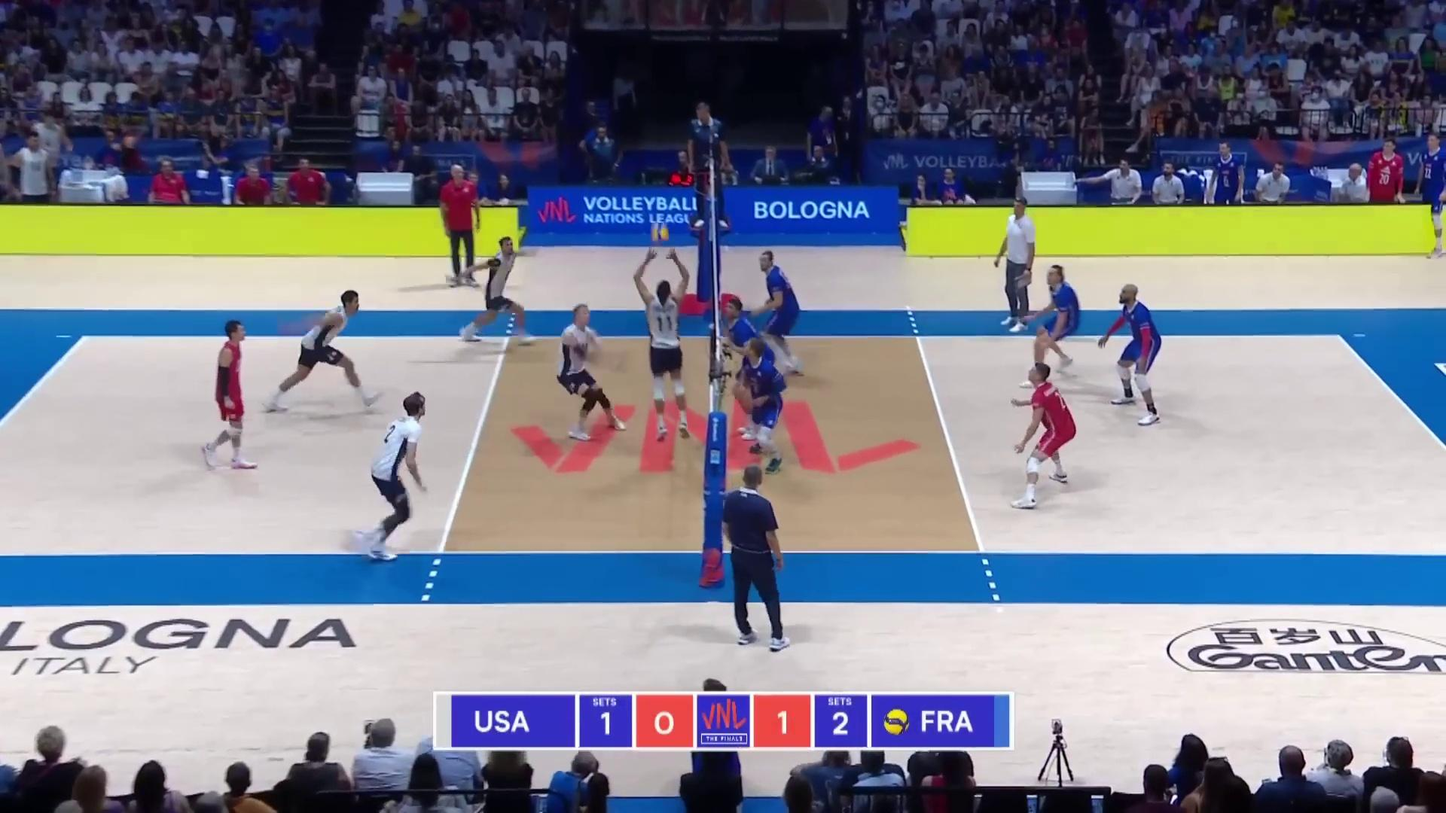player: (356, 396, 433, 556), (275, 294, 376, 412), (637, 254, 694, 441), (1010, 365, 1078, 508), (556, 304, 624, 439), (1097, 288, 1162, 424), (742, 253, 803, 381), (204, 322, 253, 469), (723, 300, 773, 442), (736, 340, 788, 472), (462, 237, 527, 341), (1031, 264, 1078, 385)
refree: (723, 464, 784, 648), (688, 105, 728, 230)
